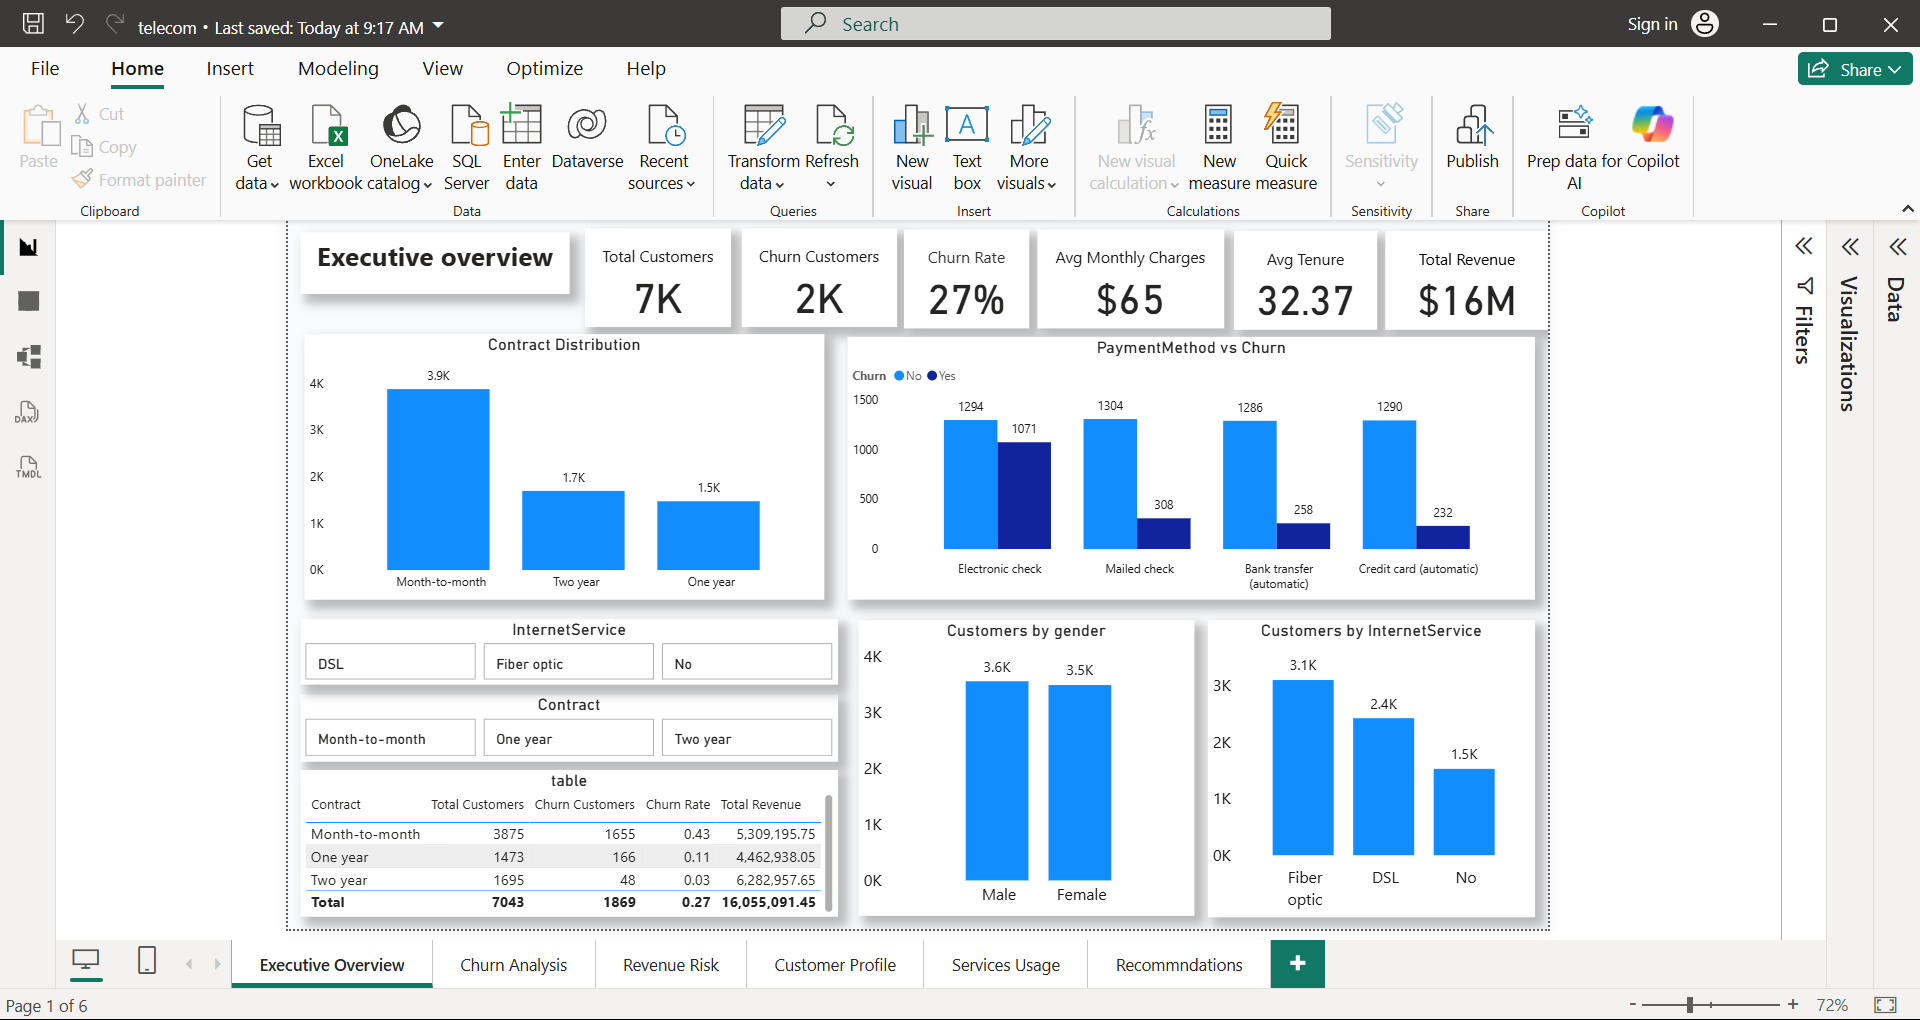

What the dashboard file says about the page in this screenshot:
{"tool":"powerbi","page":{"name":"Executive Overview","canvas":[1280,720],"ordinal":0},"visuals":[{"type":"cardVisual","fields":{"Data":["Measure_table.Total Customers"]},"box":[301.7,8.4,148,100],"z":0},{"type":"cardVisual","fields":{"Data":["Measure_table.Churn Customers"]},"box":[460.9,8.4,157.8,100.6],"z":1000},{"type":"cardVisual","fields":{"Data":["Measure_table.Churn Rate"]},"box":[625.4,9.2,127.1,100],"z":2000},{"type":"cardVisual","fields":{"Data":["Measure_table.Avg Monthly Charges"]},"box":[761.4,10.1,189.9,100],"z":3000},{"type":"cardVisual","fields":{"Data":["Measure_table.Avg Tenure"]},"box":[960.3,10.9,145.2,100],"z":4000},{"type":"textbox","box":[12.6,12.6,273.7,62.8],"z":5000},{"type":"clusteredColumnChart","title":"Customers by gender","fields":{"Category":["Telco-Customer-Churn.gender"],"Y":["Measure_table.Total Customers"]},"box":[579.6,406.4,340.8,300.3],"z":6000},{"type":"clusteredColumnChart","title":"Contract Distribution","fields":{"Category":["Telco-Customer-Churn.Contract"],"Y":["Measure_table.Total Customers"]},"box":[16.8,115.9,527.9,269.5],"z":7000},{"type":"clusteredColumnChart","title":" Customers by InternetService","fields":{"Y":["Measure_table.Total Customers"],"Category":["Telco-Customer-Churn.InternetService"]},"box":[934.3,406.4,332.4,301.7],"z":8000},{"type":"advancedSlicerVisual","fields":{"Values":["Telco-Customer-Churn.Contract"]},"box":[12.6,481.8,546.1,68.4],"z":9000},{"type":"advancedSlicerVisual","fields":{"Values":["Telco-Customer-Churn.InternetService"]},"box":[12.6,405,546.1,67],"z":10000},{"type":"cardVisual","fields":{"Data":["Measure_table.Total Revenue"]},"box":[1113.8,11.7,166.2,100],"z":11000},{"type":"clusteredColumnChart","title":" PaymentMethod vs Churn","fields":{"Category":["Telco-Customer-Churn.PaymentMethod"],"Series":["Telco-Customer-Churn.Churn"],"Y":["Measure_table.Total Customers"]},"box":[568.4,118.7,698.3,266.8],"z":12000},{"type":"tableEx","title":"table","fields":{"Values":["Telco-Customer-Churn.Contract","Measure_table.Total Customers","Measure_table.Churn Customers","Measure_table.Churn Rate","Measure_table.Total Revenue"]},"box":[12.6,558.6,546.1,149.4],"z":13000}]}

Visuals, with their boxes on the page's 1280x720 design canvas (x1, y1, x2, y2). These are canvas units, not pixel positions in the 1920x1020 screenshot, which may show the page scaled, cropped or inside an application window:
cardVisual - Measure_table.Total Customers: detection(302, 8, 450, 108)
cardVisual - Measure_table.Churn Customers: detection(461, 8, 619, 109)
cardVisual - Measure_table.Churn Rate: detection(625, 9, 752, 109)
cardVisual - Measure_table.Avg Monthly Charges: detection(761, 10, 951, 110)
cardVisual - Measure_table.Avg Tenure: detection(960, 11, 1106, 111)
textbox: detection(13, 13, 286, 75)
"Customers by gender" clusteredColumnChart: detection(580, 406, 920, 707)
"Contract Distribution" clusteredColumnChart: detection(17, 116, 545, 385)
" Customers by InternetService" clusteredColumnChart: detection(934, 406, 1267, 708)
advancedSlicerVisual - Telco-Customer-Churn.Contract: detection(13, 482, 559, 550)
advancedSlicerVisual - Telco-Customer-Churn.InternetService: detection(13, 405, 559, 472)
cardVisual - Measure_table.Total Revenue: detection(1114, 12, 1280, 112)
" PaymentMethod vs Churn" clusteredColumnChart: detection(568, 119, 1267, 386)
"table" tableEx: detection(13, 559, 559, 708)
